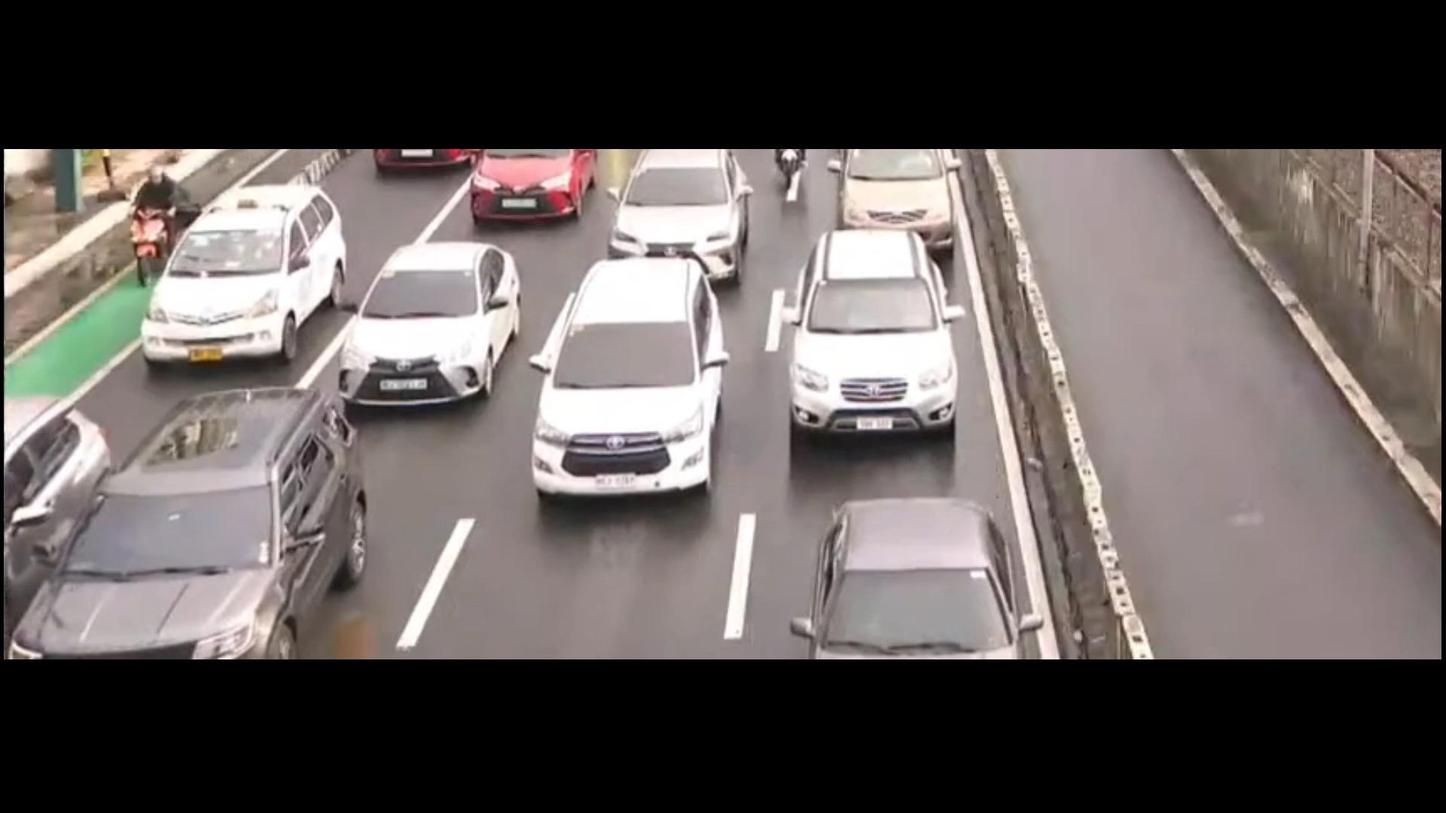Motorcycle: (123, 157, 194, 291)
SUV: (3, 382, 386, 673), (766, 224, 993, 470), (519, 247, 729, 511), (122, 168, 366, 371), (798, 488, 1055, 654), (0, 365, 127, 619), (600, 147, 772, 268), (828, 136, 964, 240)
Sedan: (332, 232, 537, 417), (460, 143, 599, 240)
